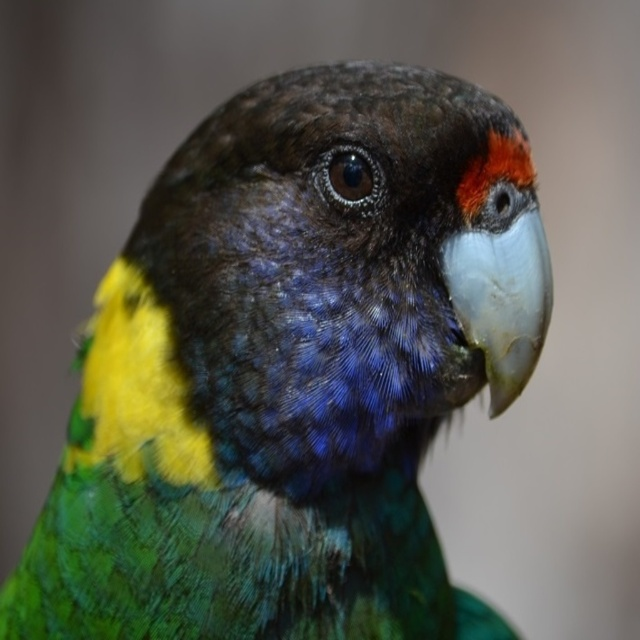Parrot: (0, 56, 557, 639)
